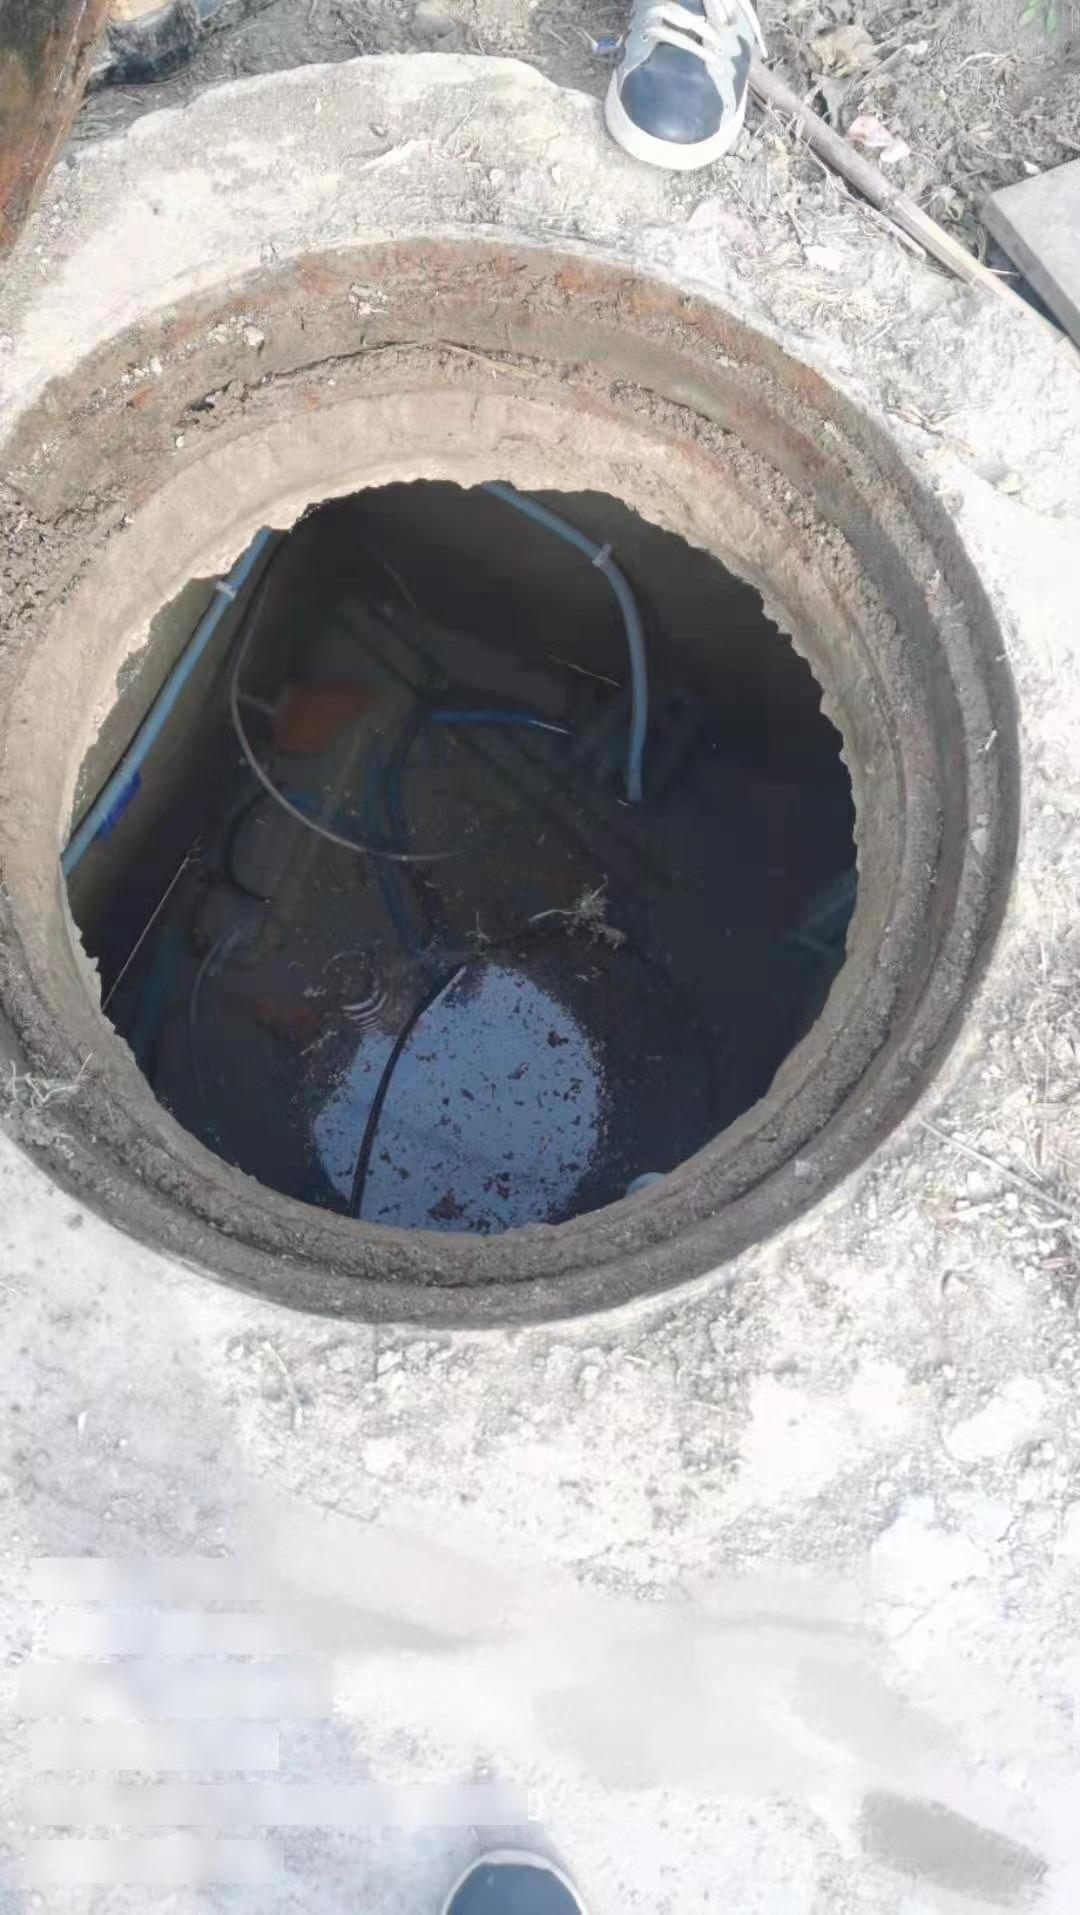wellcover: (0, 218, 1006, 1318)
